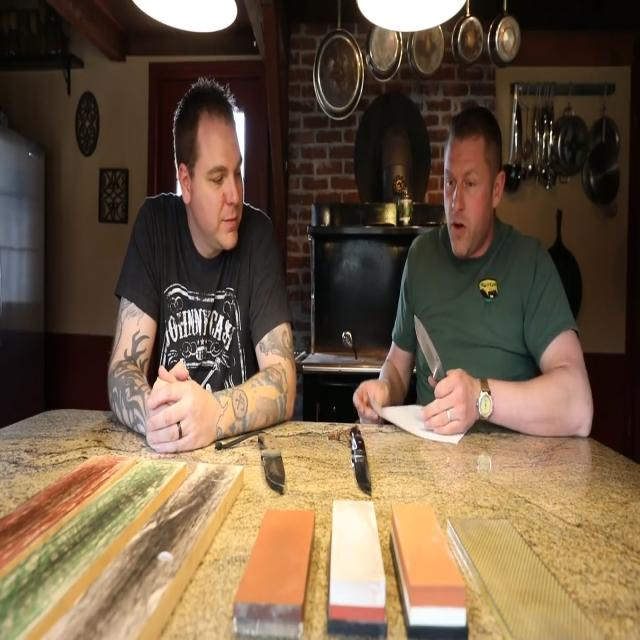knife: (412, 313, 448, 381), (260, 425, 288, 497), (350, 423, 375, 502)
